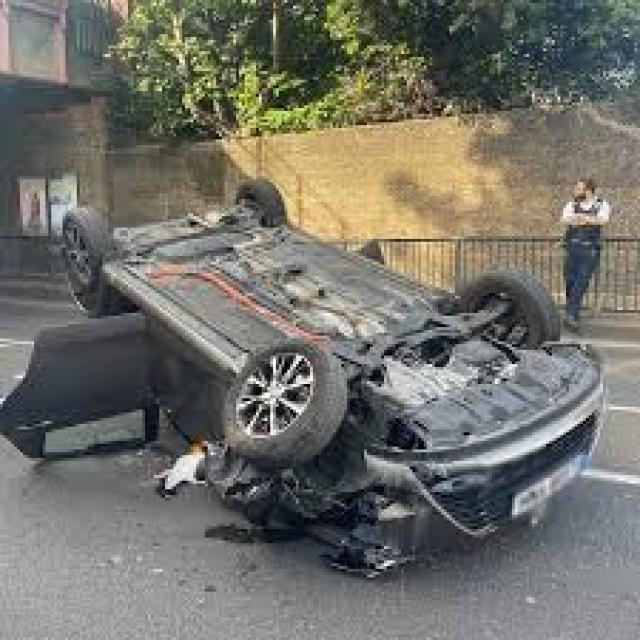accident: (5, 170, 600, 617)
